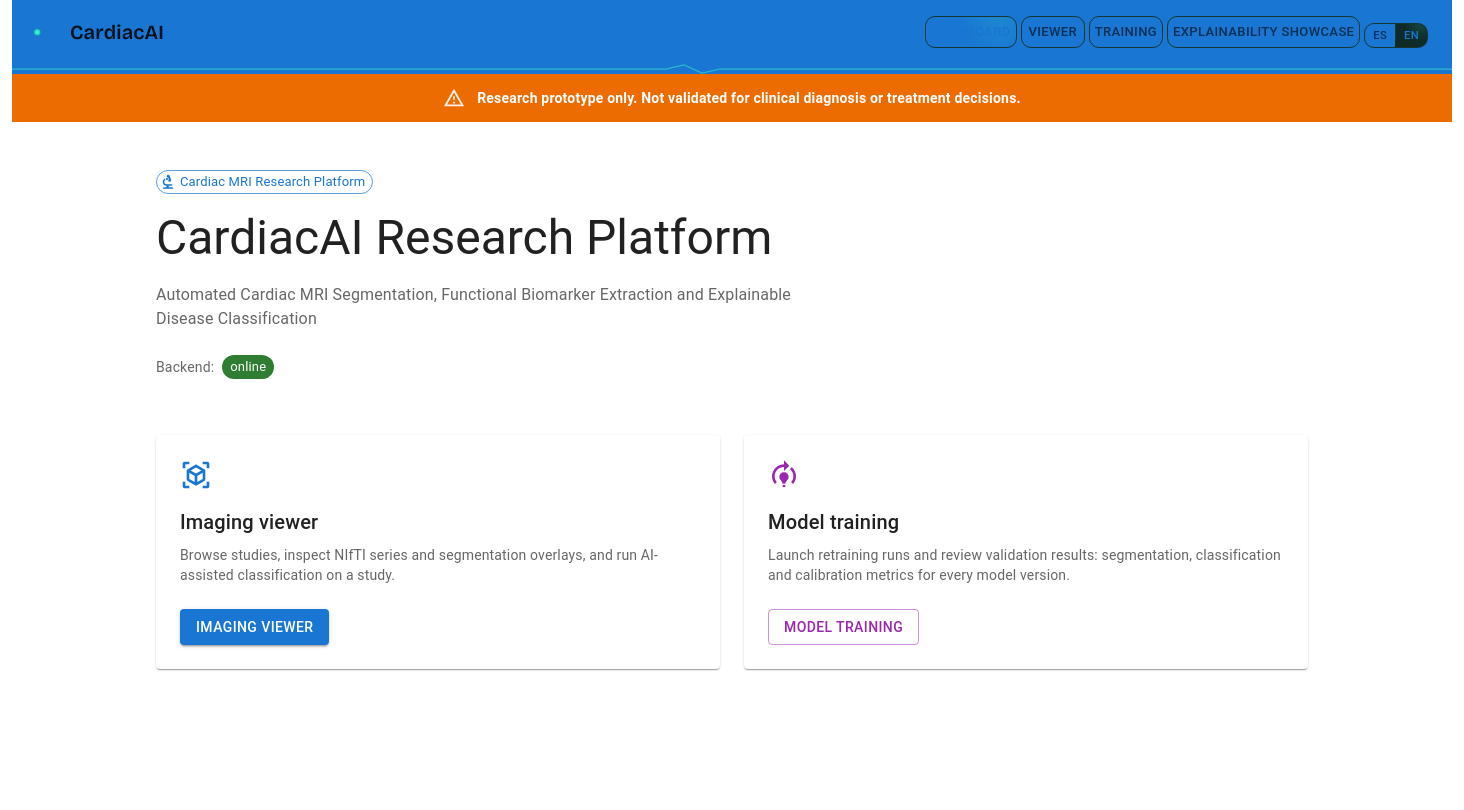
it: LanguageSwitcher › switches back to English immediately, no reload needed
Click the button with aria-label "Español" at (1380, 36), box [1364,23,1396,48]
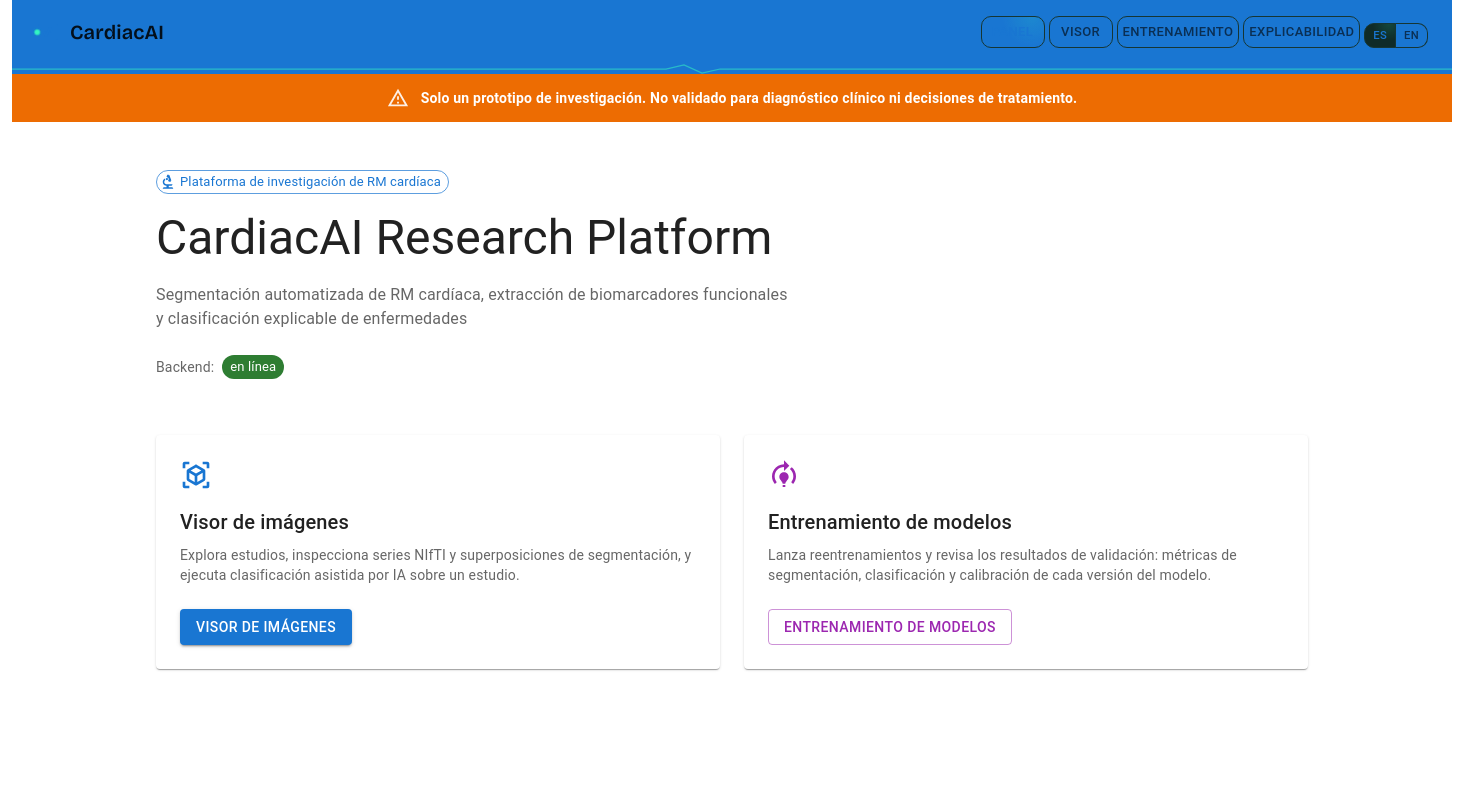
Expected: the heading "Visor de imágenes" is shown, [180,510,349,534]
Click the button with aria-label "English" at (1412, 36), box [1395,23,1428,48]
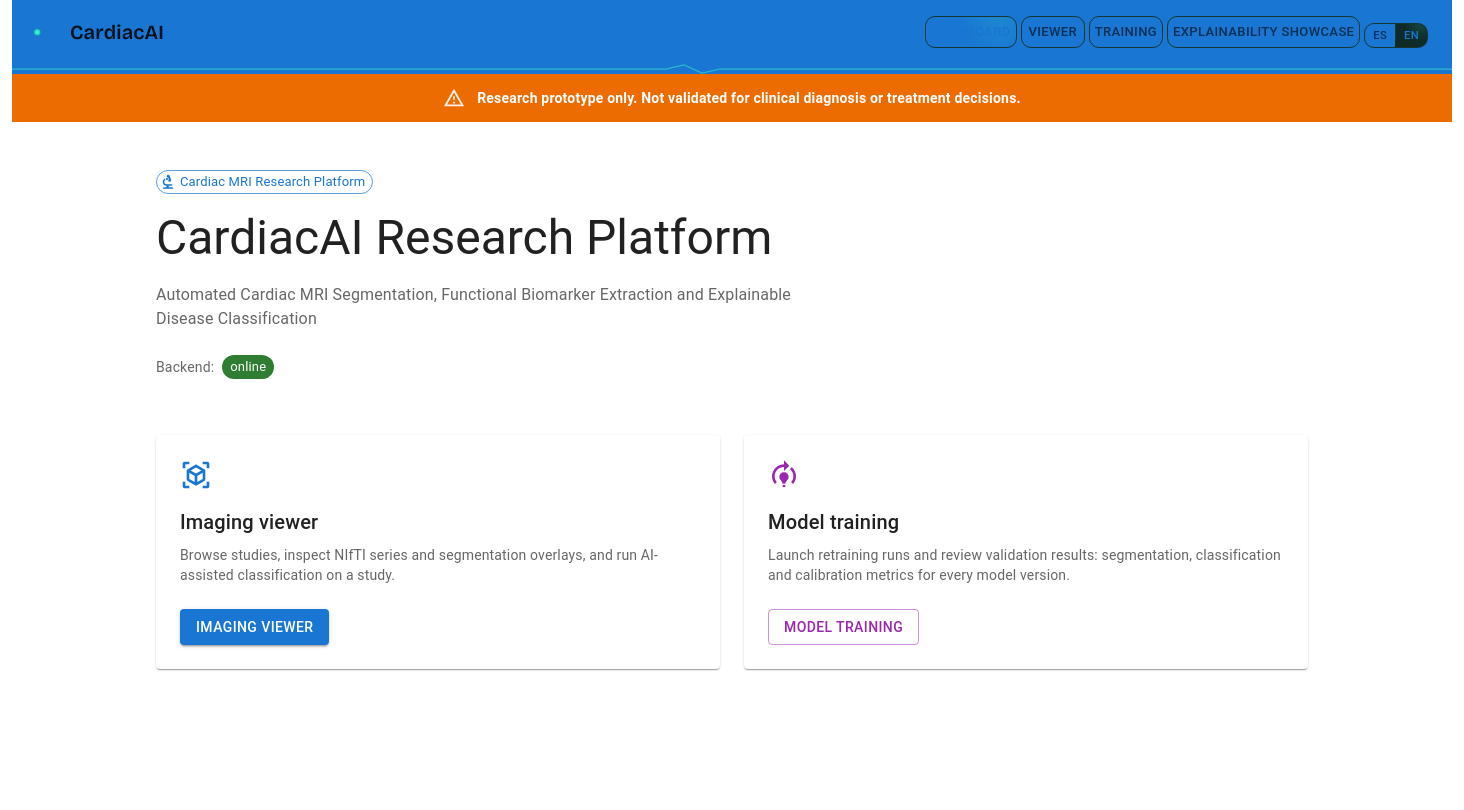
Expected: the heading "Imaging viewer" is shown, [180,510,318,534]
